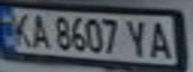0: (84, 15, 106, 53)
6: (66, 15, 87, 52)
7: (100, 16, 124, 55)
8: (51, 14, 72, 52)
A: (145, 18, 175, 61), (27, 11, 51, 50)
K: (6, 9, 36, 48)
Y: (124, 17, 151, 57)
